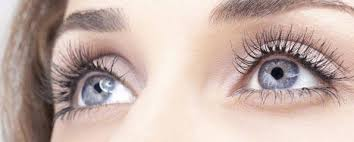pupil: (259, 59, 297, 89), (81, 75, 114, 103)
